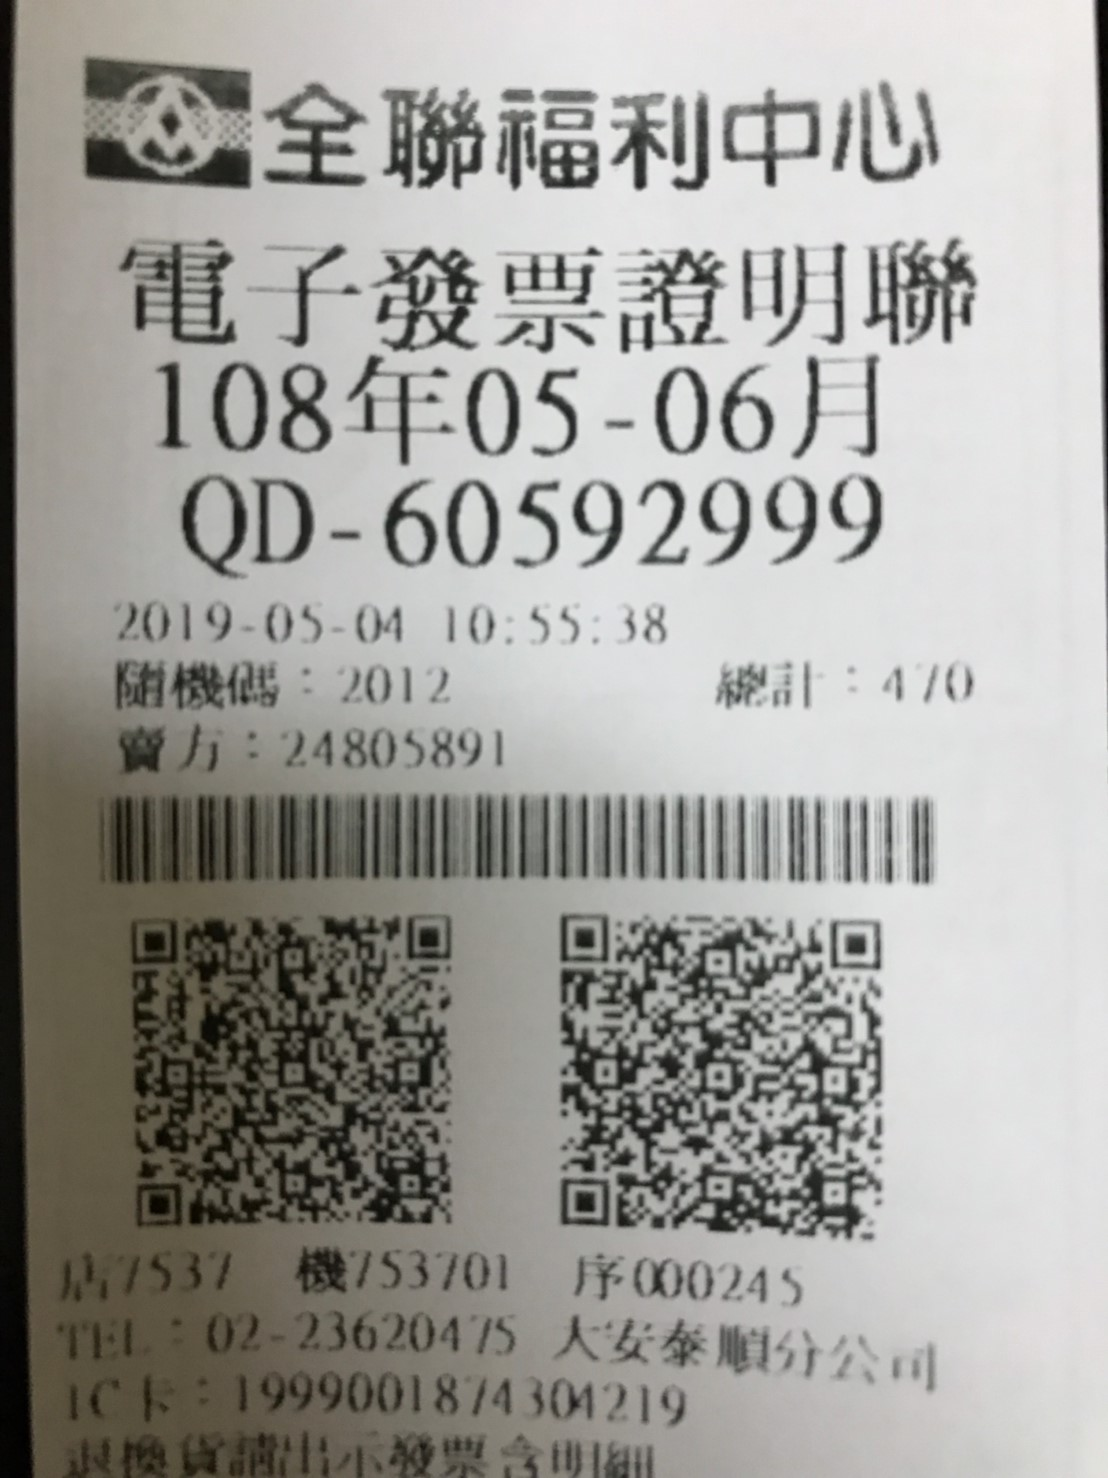Date_New: (155, 353, 887, 469)
Number_New: (382, 469, 887, 567)
